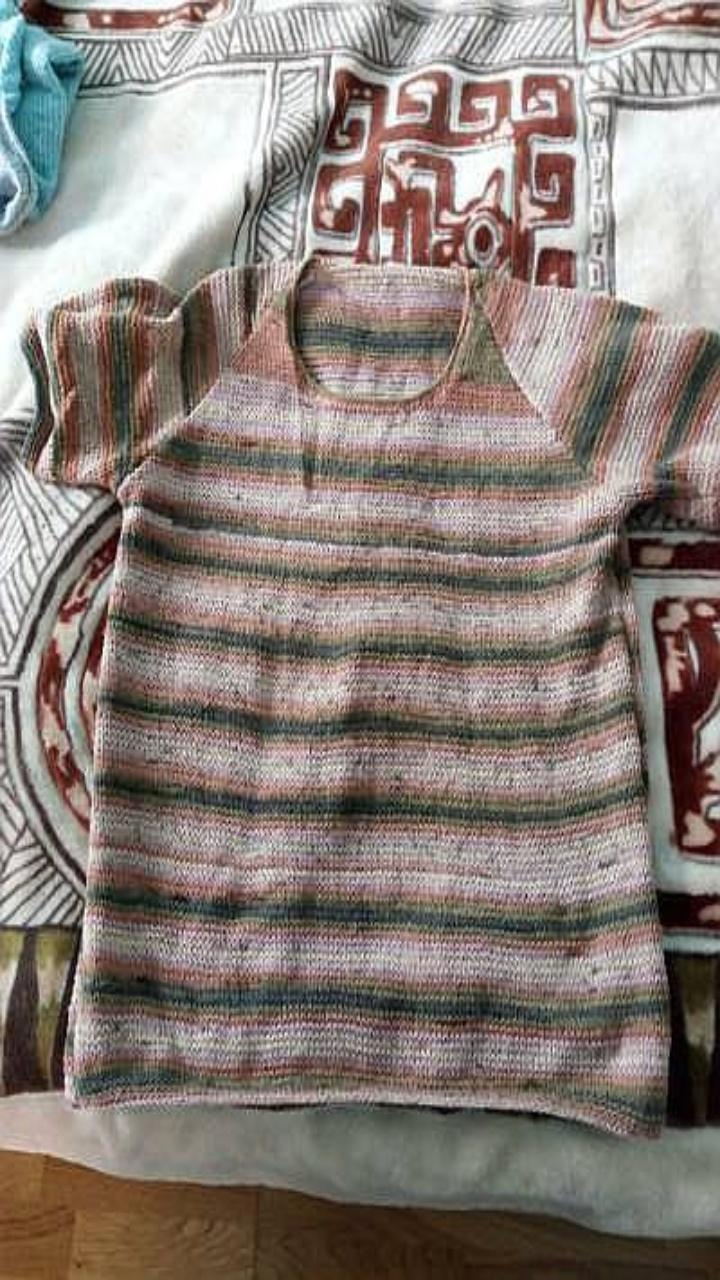T-Shirt: (25, 258, 719, 1133)
